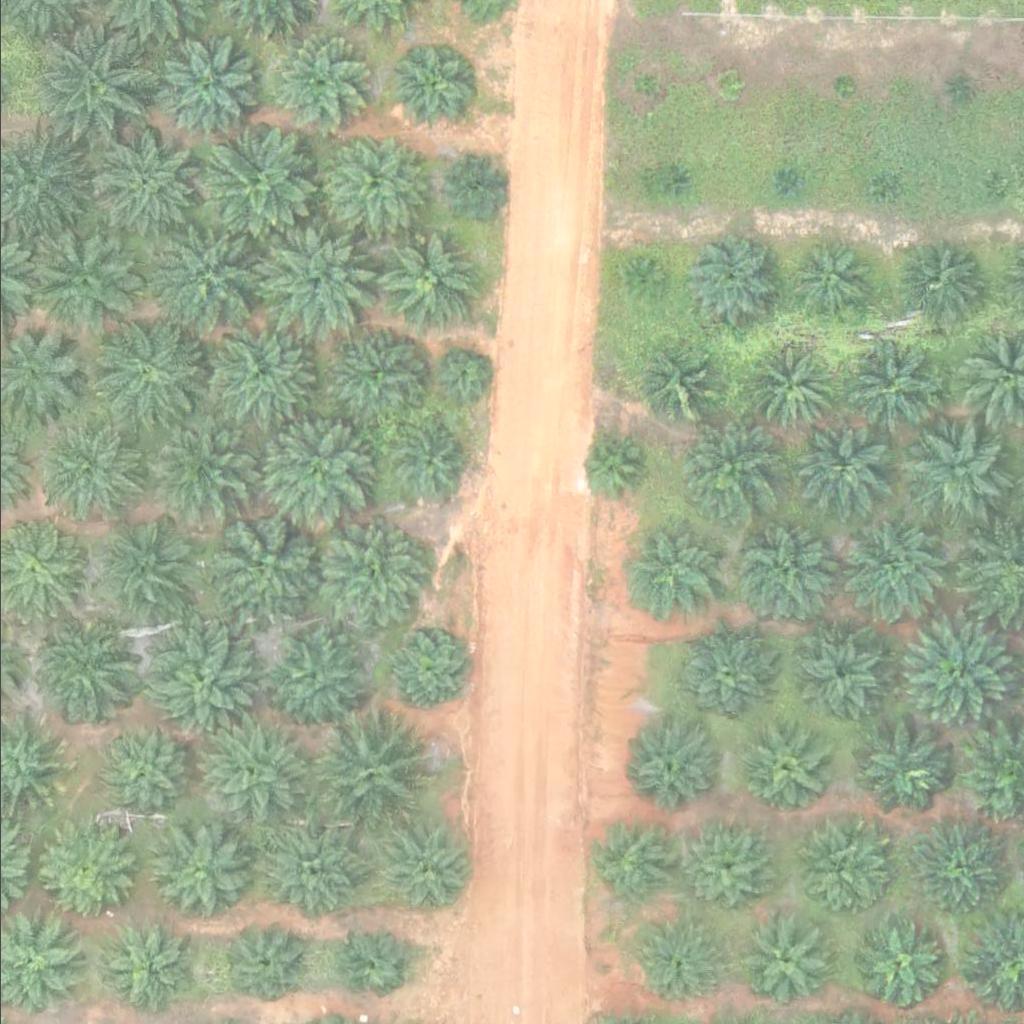Kelapa_Sawit: (25, 24, 151, 149), (194, 125, 320, 250), (145, 208, 271, 333), (83, 313, 209, 438), (310, 513, 436, 638), (199, 501, 325, 626), (135, 621, 261, 746), (309, 712, 435, 837), (186, 708, 312, 833), (192, 309, 317, 434), (890, 615, 1004, 728), (258, 222, 371, 335), (26, 223, 139, 336), (673, 222, 786, 334), (146, 33, 259, 145), (89, 124, 202, 236), (255, 411, 368, 523), (143, 412, 256, 524), (909, 820, 1010, 920), (904, 419, 1005, 519), (843, 336, 944, 436), (676, 423, 777, 523), (731, 517, 832, 617), (621, 522, 722, 622), (265, 29, 366, 129), (324, 133, 425, 233), (376, 233, 477, 333), (322, 322, 423, 422), (88, 521, 189, 621), (32, 629, 133, 729), (854, 717, 954, 817), (840, 517, 940, 617), (673, 628, 773, 728), (622, 720, 722, 820), (676, 822, 776, 922), (264, 627, 364, 727), (372, 817, 472, 917), (256, 821, 356, 921), (149, 821, 249, 921), (32, 823, 132, 923), (786, 240, 875, 328), (851, 919, 939, 1007), (793, 625, 881, 713), (895, 237, 983, 325), (743, 346, 831, 434), (738, 919, 826, 1007), (632, 921, 720, 1009), (384, 43, 472, 131), (45, 424, 133, 512), (98, 923, 186, 1011), (219, 918, 307, 1005), (792, 825, 880, 912), (791, 426, 879, 513), (742, 728, 830, 815), (585, 822, 673, 909), (94, 729, 182, 816), (391, 634, 467, 709), (331, 922, 407, 997), (638, 353, 713, 428), (389, 425, 464, 500), (577, 432, 640, 495), (439, 155, 502, 218), (435, 350, 485, 400), (626, 262, 664, 300), (979, 178, 1004, 203), (863, 172, 888, 197), (946, 78, 971, 103), (828, 74, 853, 99), (716, 70, 741, 95), (632, 73, 657, 98), (774, 173, 799, 198), (664, 166, 689, 191)
